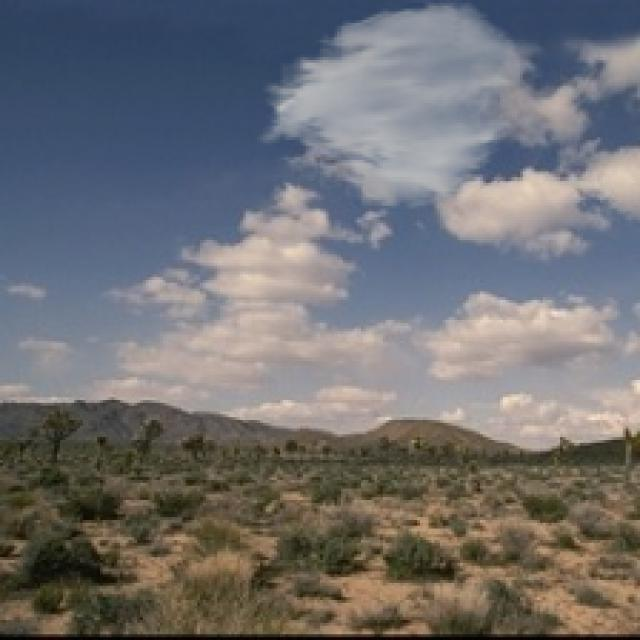smoke: (254, 0, 526, 212)
